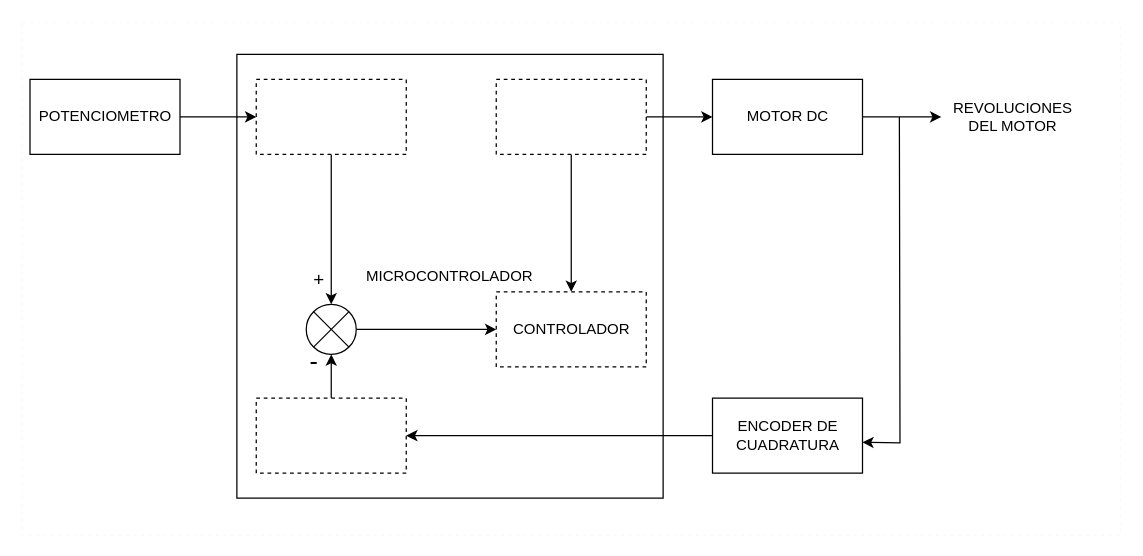
This 1143x556 diagram has some shape labels left out. Each missing label, with the centre of its shape:
"FILTRO COMPLEMENTARIO" belongs at (330,116).
"INTERRUPCION" belongs at (330,435).
"PWM" belongs at (570,116).
